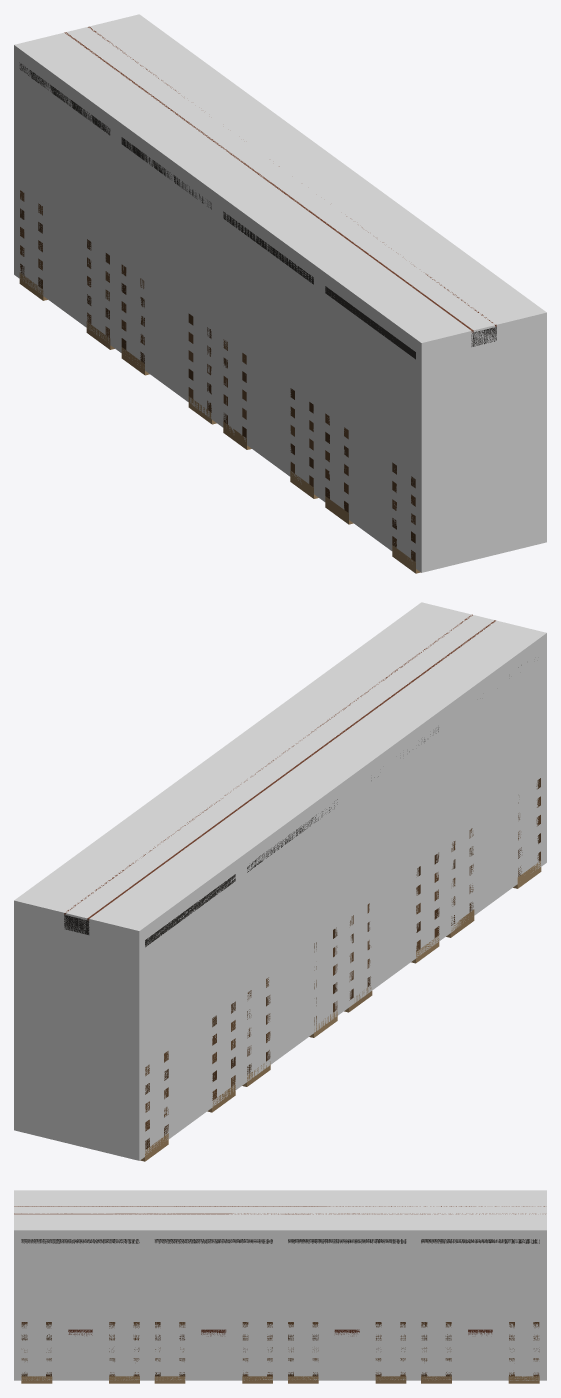
Rendered from ore_bin_row.glb.
3 renders of one model, top to bottom at view 1: azimuth 30°, elevation 25°; view 2: azimuth 150°, elevation 25°; view 3: azimuth 270°, elevation 25°, orthographic. The views are drawn at different scales.
Visible parts, largest first — view 1: ore_bin_row-col-col, ore_bin_row; view 2: ore_bin_row-col-col, ore_bin_row; view 3: ore_bin_row-col-col, ore_bin_row.
Part boxes in pixels (x1,y1,x2,y2): ore_bin_row-col-col: (14,14,546,572); ore_bin_row: (19,26,496,573); ore_bin_row-col-col: (14,602,546,1160); ore_bin_row: (64,614,541,1161); ore_bin_row-col-col: (14,1190,546,1380); ore_bin_row: (14,1206,545,1383).
Bounding box in the file's own units: 8 × 14.3 × 45.
